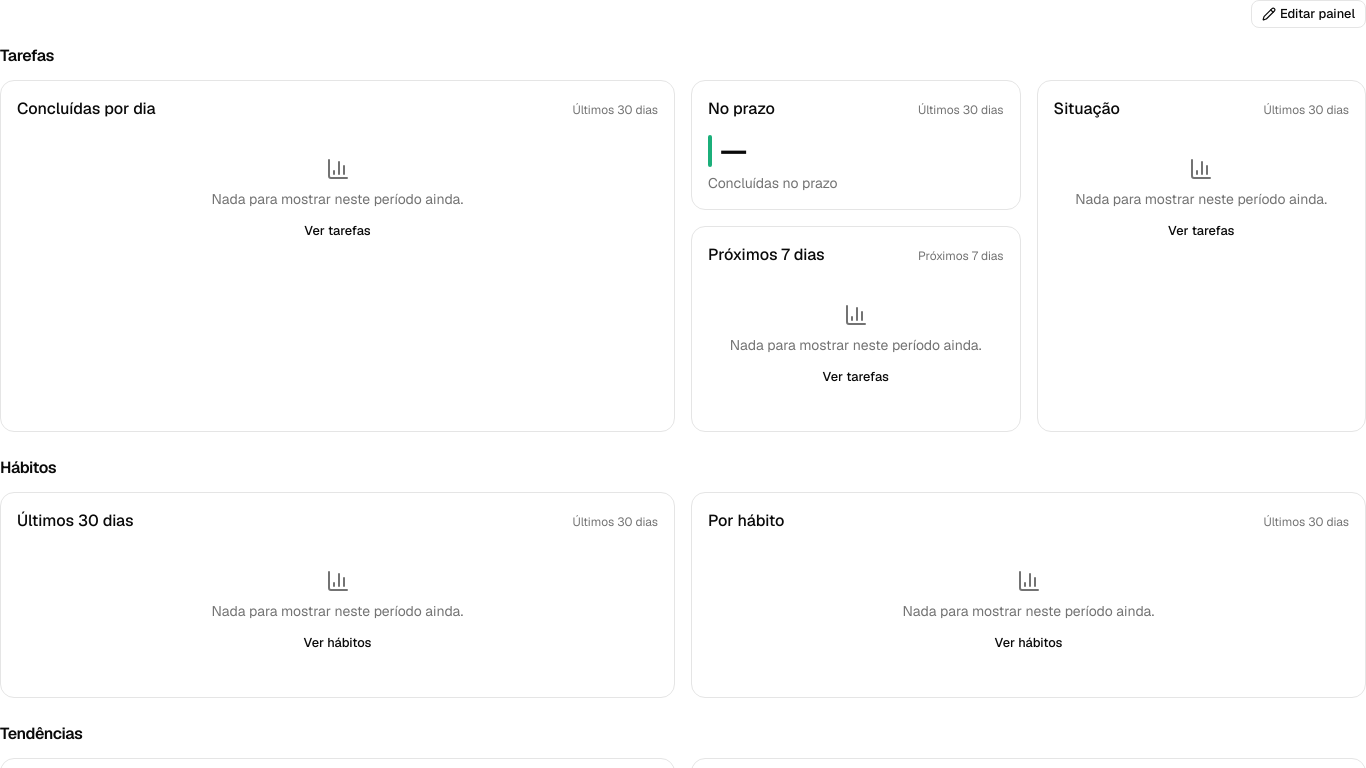
Test: DashboardBoard › adds a new widget at the end of the first section
The image size is (1366, 768).
Click the button "Editar painel" at (1308, 14), box [1251,0,1365,28]
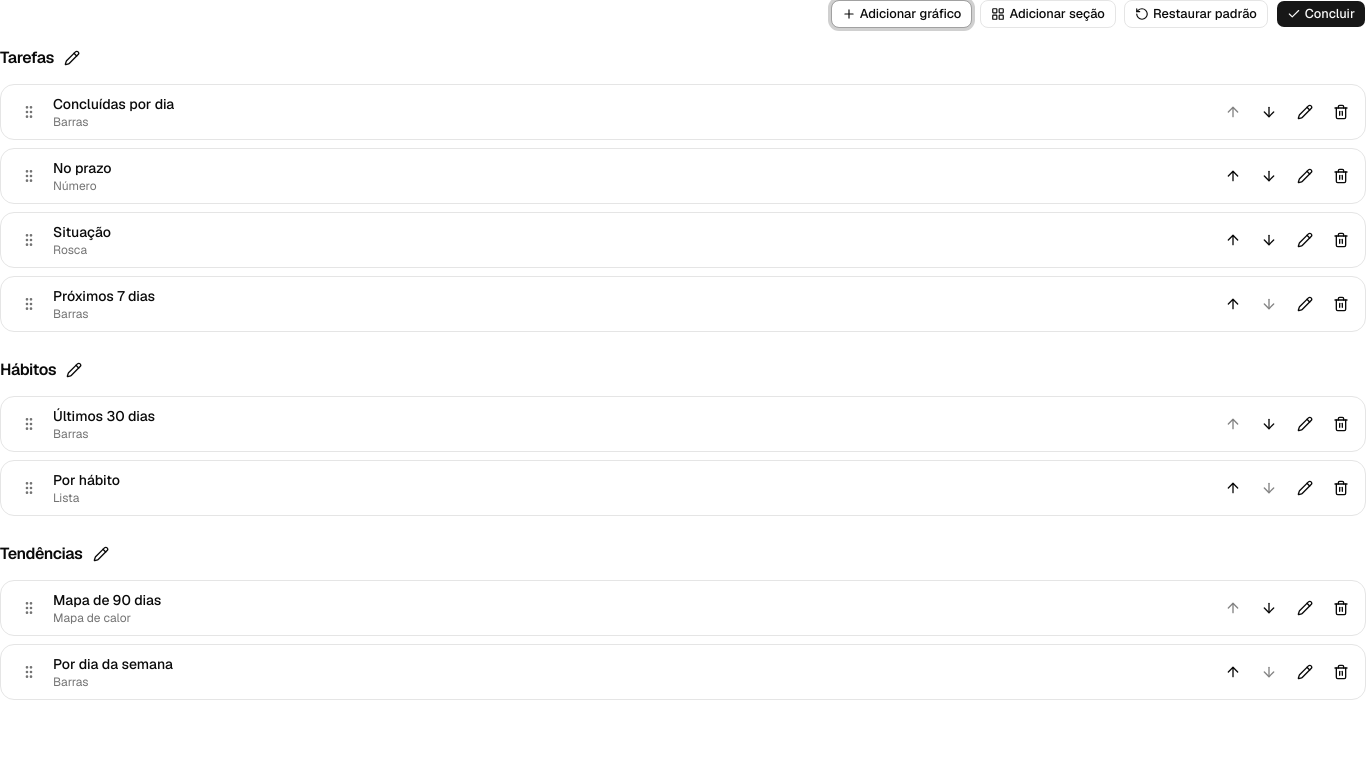
Click the button "Adicionar gráfico" at (902, 14), box [831,0,972,28]
(page scrolled)
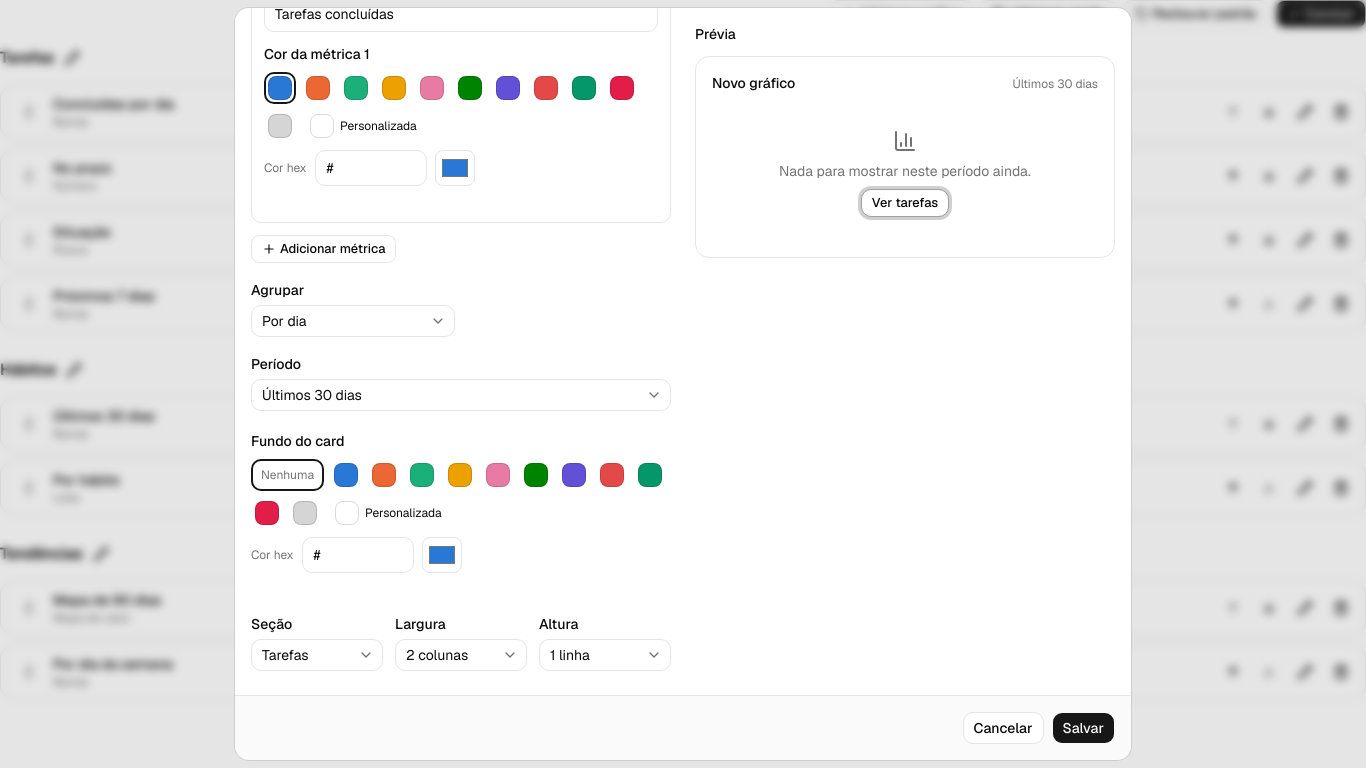
Click the button "Salvar" at (1083, 728), box [1052,712,1115,744]
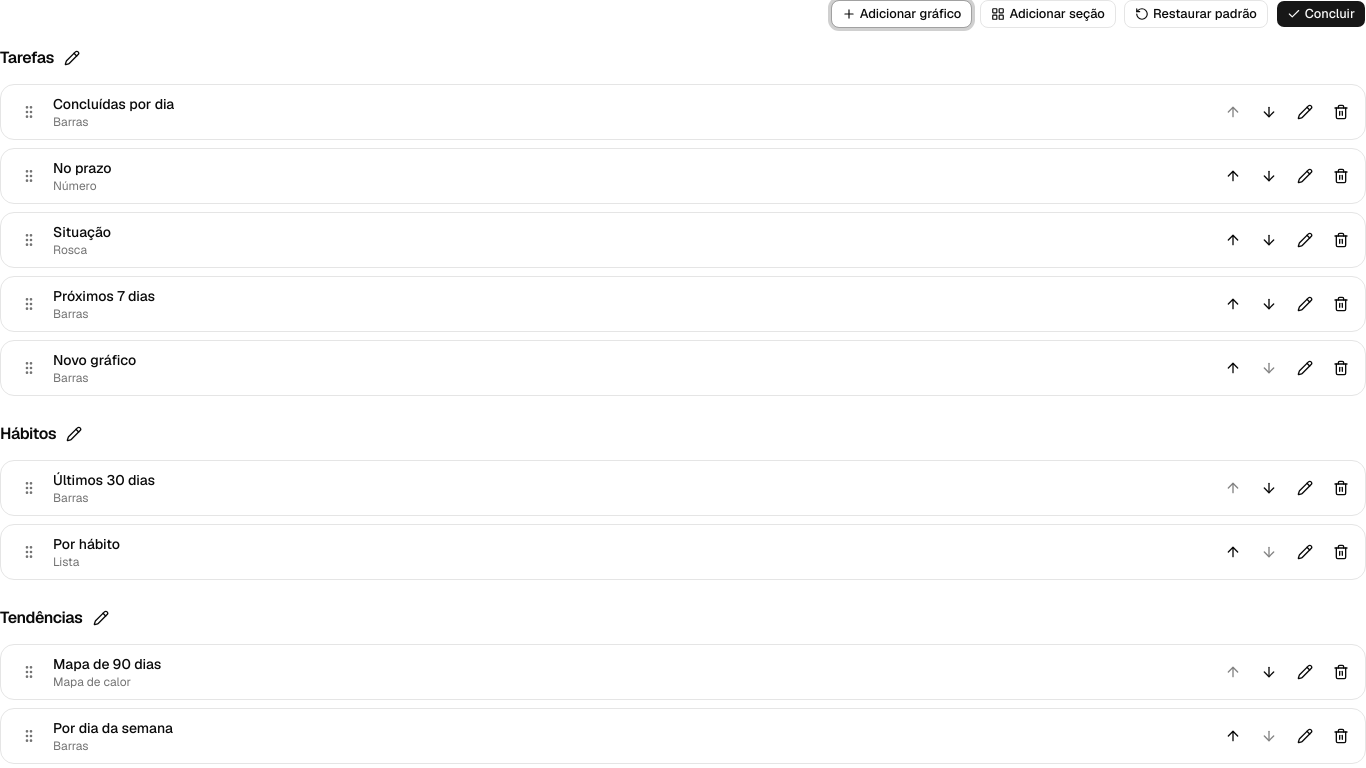
Check: the dialog is gone
